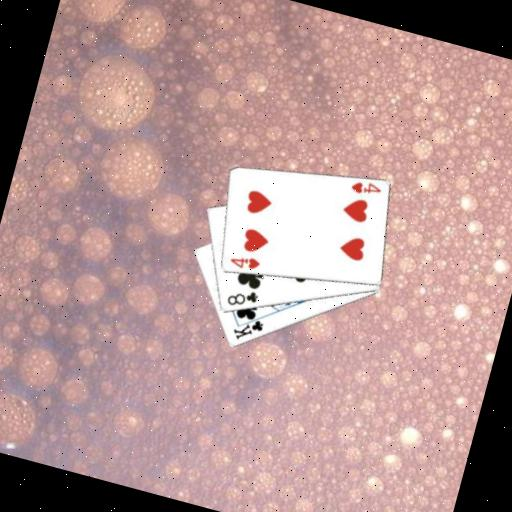4H: (225, 249, 262, 274), (347, 175, 384, 200)
8C: (222, 282, 261, 313)
KC: (227, 305, 267, 346)
